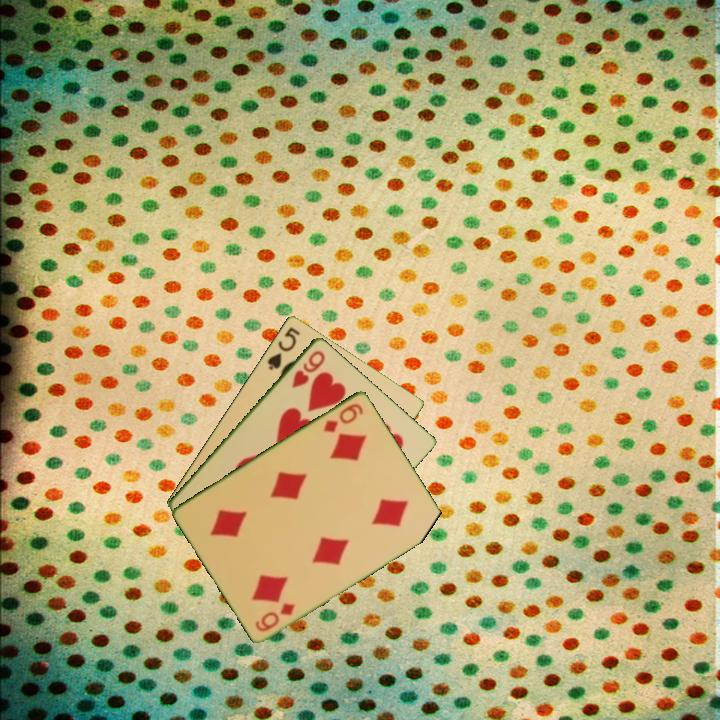5s: (264, 323, 303, 373)
6d: (320, 399, 366, 435), (251, 599, 298, 634)
9h: (288, 346, 328, 390)
